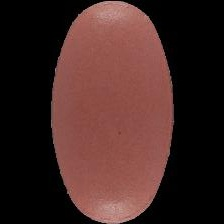54868-6154: (0, 0, 224, 224)
